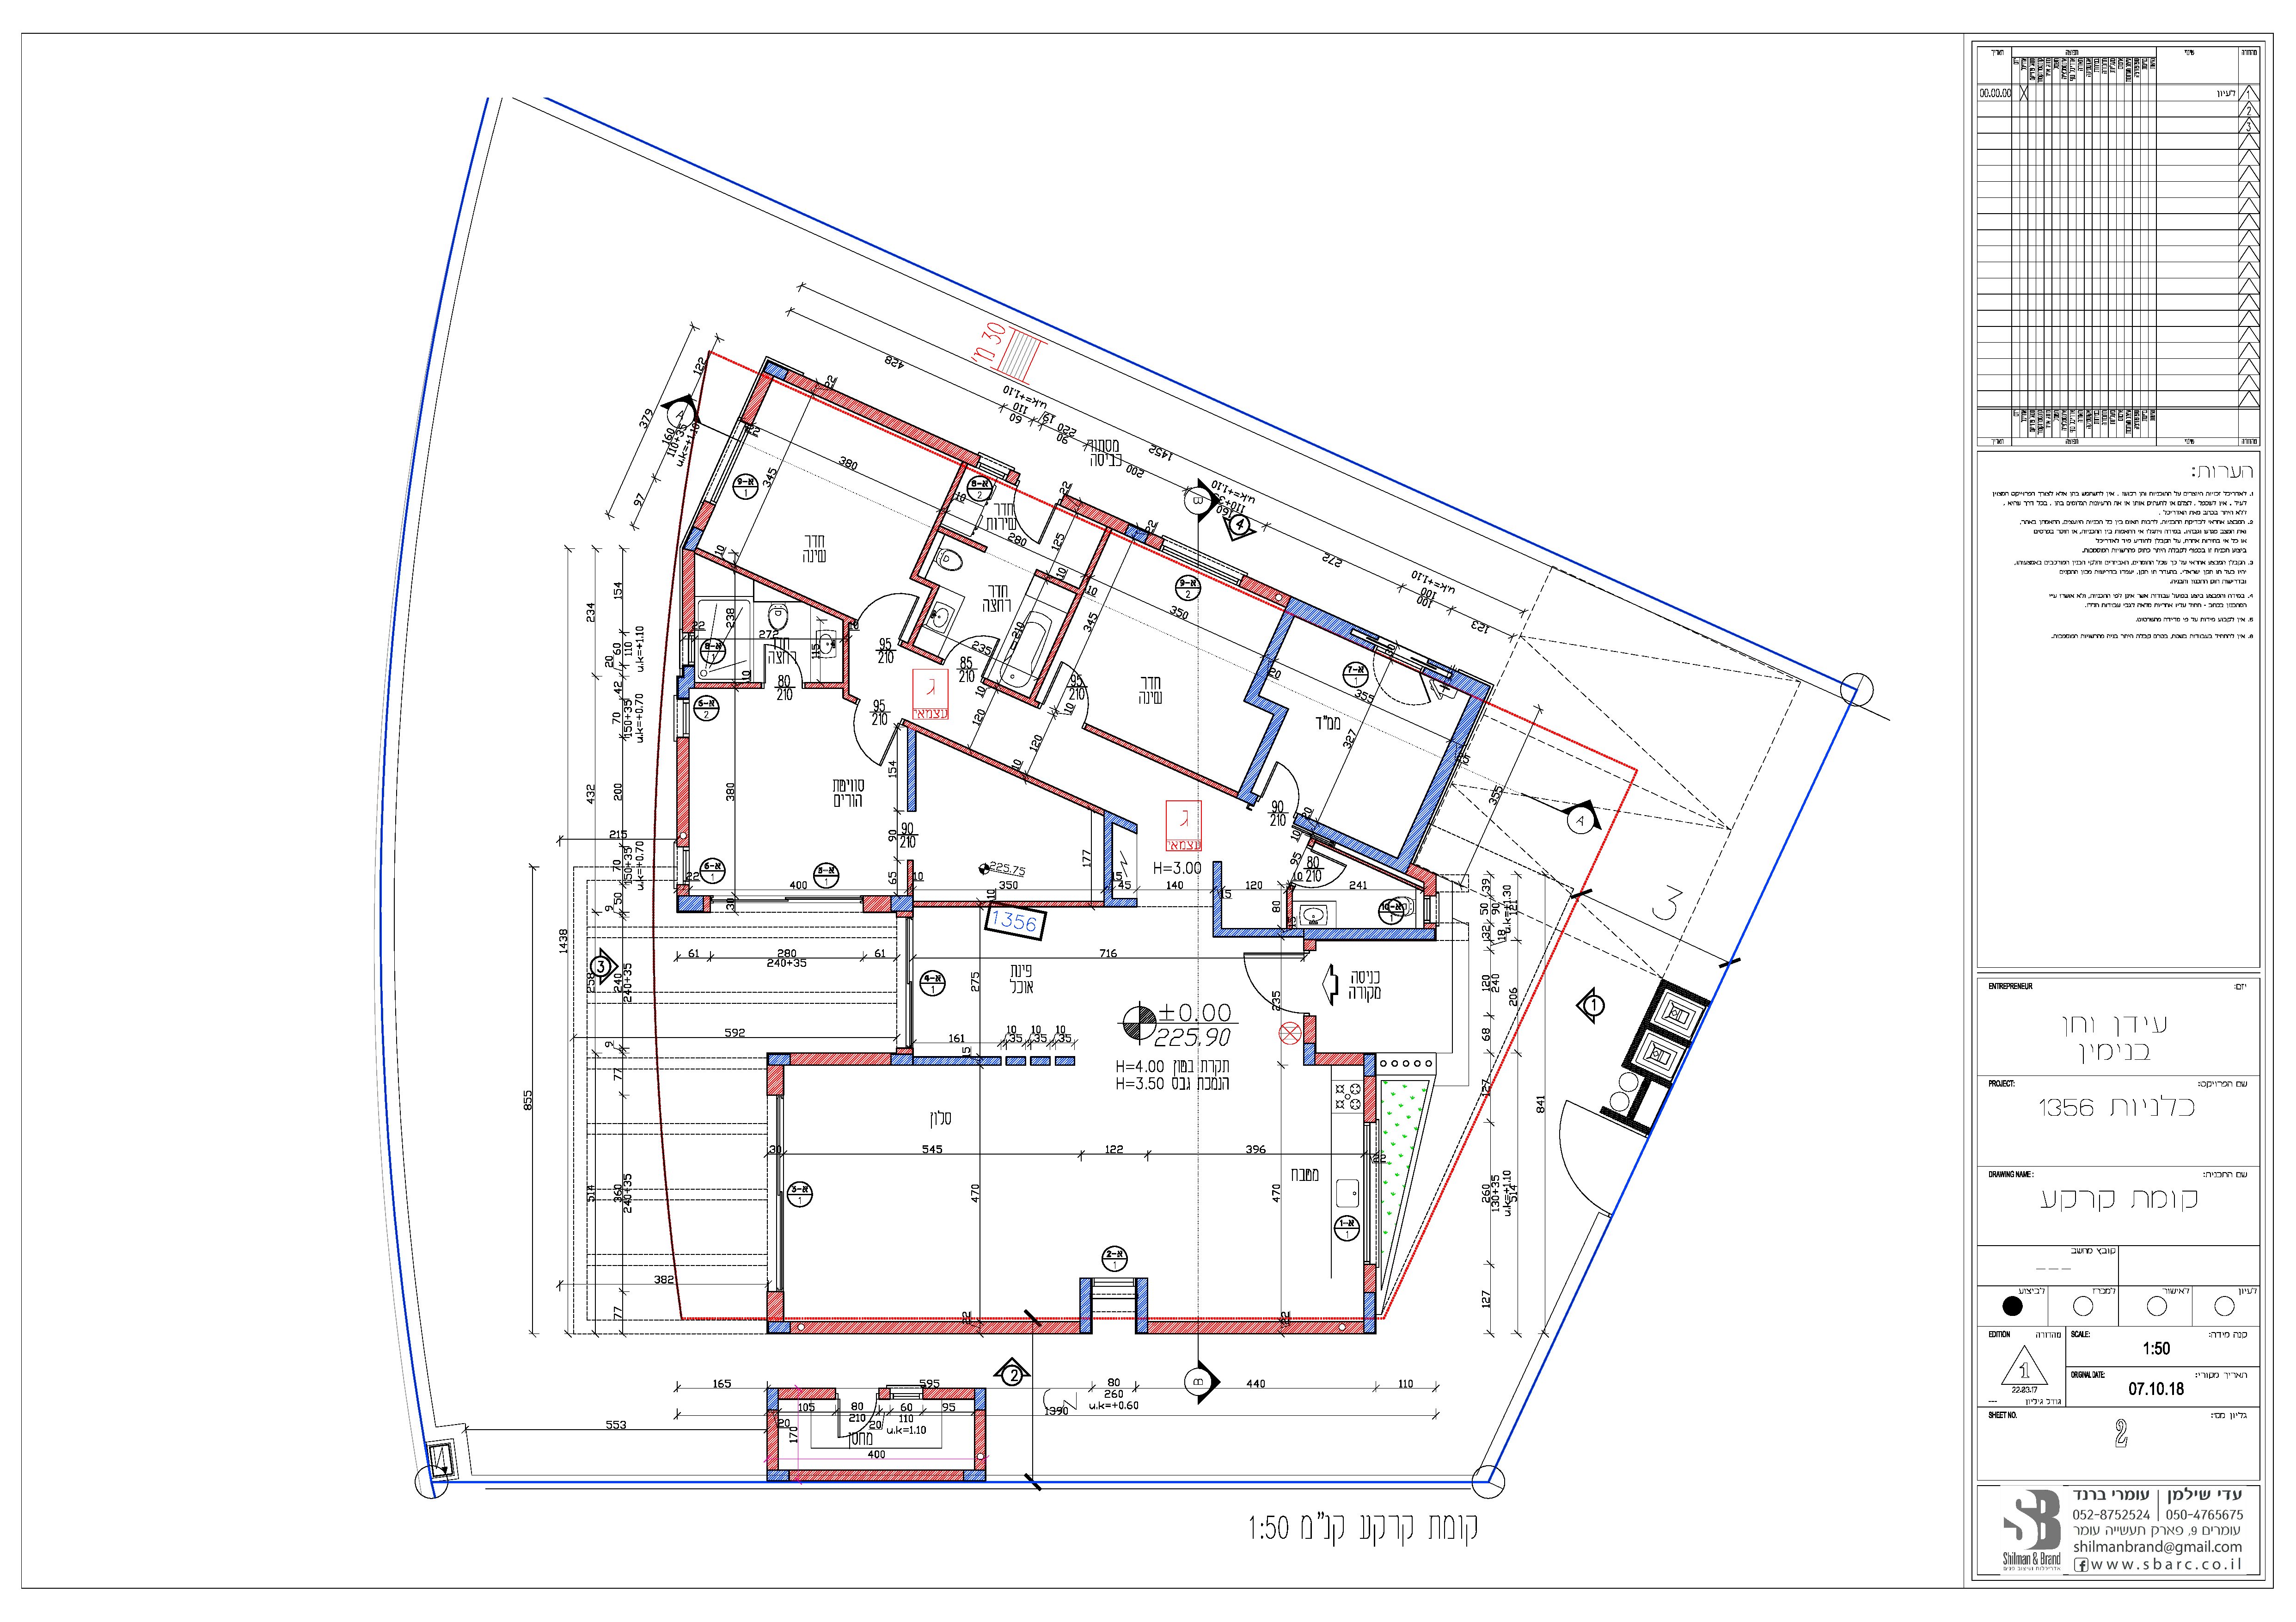door: (849, 576, 921, 646), (849, 688, 905, 771), (1238, 944, 1298, 1016), (1265, 758, 1301, 804)
md: (549, 184, 1751, 1471)
rd: (1907, 46, 2296, 1543)
wall: (1214, 927, 1394, 936), (793, 1053, 891, 1064), (1303, 930, 1435, 937), (679, 741, 689, 823)
window: (758, 1092, 789, 1295), (1356, 1120, 1380, 1269), (670, 695, 696, 741), (1087, 1274, 1140, 1288), (1421, 894, 1438, 923)
